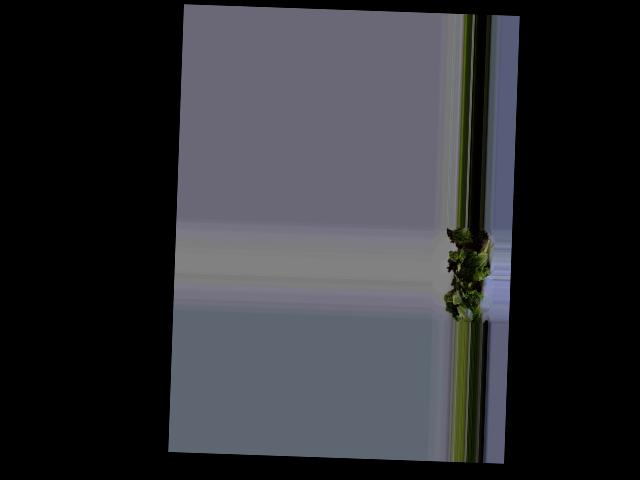lettuce: (447, 230, 485, 317)
